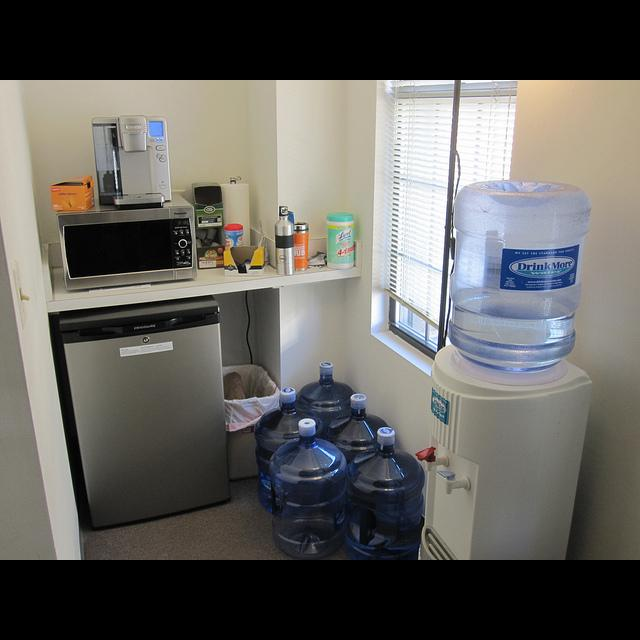Microwave: (55, 193, 199, 291)
Refrigerator: (56, 299, 232, 534)
